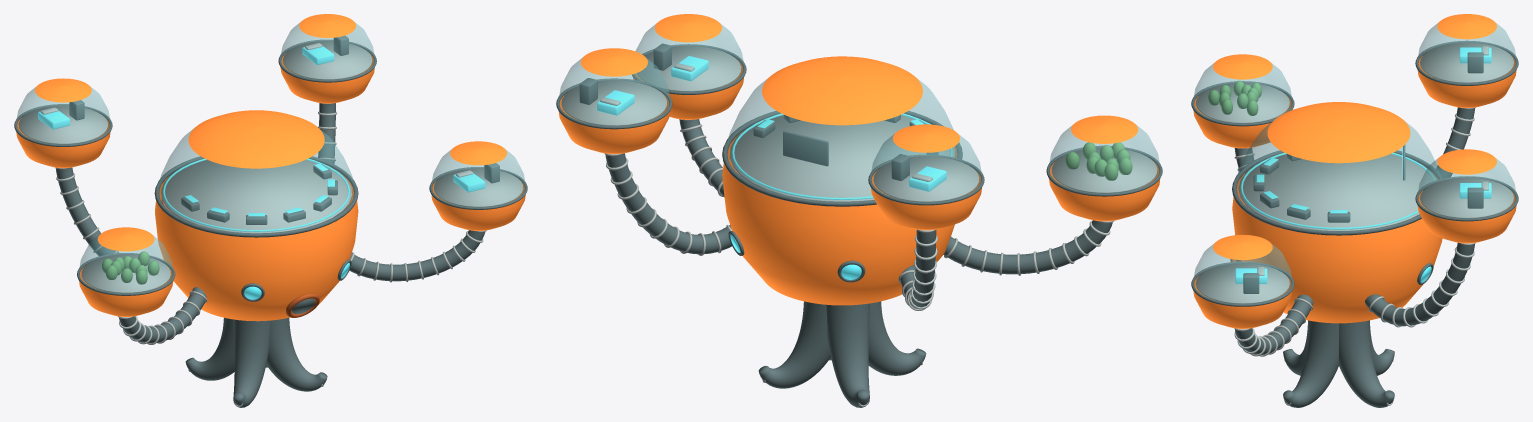
File: octopod.glb
3 renders of one model, left to right at view 1: azimuth 30°, elevation 25°; view 2: azimuth 150°, elevation 25°; view 3: azimuth 270°, elevation 25°, orthographic. The views are drawn at different scales.
Visible parts, largest first — view 1: Runtime_Octopod orange enamel, Runtime_Warm grey arm ribs, Runtime_Graphite seals and flexible arms, Runtime_Main_Dome_Glass, Runtime_Peso_Pod_Glazing, Runtime_Garden_Pod_Glazing, Runtime_Barnacles_Pod_Glazing, Runtime_Kwazii_Pod_Glazing, Runtime_Turquoise windows and screens, Runtime_Garden and room accents; view 2: Runtime_Octopod orange enamel, Runtime_Graphite seals and flexible arms, Runtime_Warm grey arm ribs, Runtime_Main_Dome_Glass, Runtime_Peso_Pod_Glazing, Runtime_Barnacles_Pod_Glazing, Runtime_Garden_Pod_Glazing, Runtime_Kwazii_Pod_Glazing, Runtime_Turquoise windows and screens, Runtime_Garden and room accents; view 3: Runtime_Octopod orange enamel, Runtime_Warm grey arm ribs, Runtime_Graphite seals and flexible arms, Runtime_Main_Dome_Glass, Runtime_Kwazii_Pod_Glazing, Runtime_Peso_Pod_Glazing, Runtime_Barnacles_Pod_Glazing, Runtime_Garden_Pod_Glazing, Runtime_Turquoise windows and screens, Runtime_Garden and room accents.
Boxes of the visible parts, left/top/right/bottom form: Runtime_Octopod orange enamel: left=16, top=14, right=525, bottom=321; Runtime_Warm grey arm ribs: left=18, top=41, right=523, bottom=406; Runtime_Graphite seals and flexible arms: left=14, top=35, right=527, bottom=407; Runtime_Main_Dome_Glass: left=157, top=129, right=355, bottom=232; Runtime_Peso_Pod_Glazing: left=280, top=22, right=374, bottom=79; Runtime_Garden_Pod_Glazing: left=79, top=235, right=173, bottom=292; Runtime_Barnacles_Pod_Glazing: left=16, top=86, right=110, bottom=143; Runtime_Kwazii_Pod_Glazing: left=431, top=149, right=525, bottom=206; Runtime_Turquoise windows and screens: left=38, top=46, right=485, bottom=299; Runtime_Garden and room accents: left=102, top=251, right=159, bottom=284; Runtime_Octopod orange enamel: left=558, top=14, right=1159, bottom=305; Runtime_Graphite seals and flexible arms: left=556, top=43, right=1162, bottom=407; Runtime_Warm grey arm ribs: left=561, top=46, right=1157, bottom=406; Runtime_Main_Dome_Glass: left=725, top=78, right=953, bottom=201; Runtime_Peso_Pod_Glazing: left=558, top=57, right=670, bottom=125; Runtime_Barnacles_Pod_Glazing: left=870, top=134, right=982, bottom=201; Runtime_Garden_Pod_Glazing: left=1048, top=125, right=1160, bottom=192; Runtime_Kwazii_Pod_Glazing: left=635, top=23, right=744, bottom=91; Runtime_Turquoise windows and screens: left=597, top=56, right=952, bottom=279; Runtime_Garden and room accents: left=1065, top=142, right=1132, bottom=180; Runtime_Octopod orange enamel: left=1193, top=14, right=1516, bottom=328; Runtime_Warm grey arm ribs: left=1196, top=42, right=1513, bottom=405; Runtime_Graphite seals and flexible arms: left=1191, top=40, right=1518, bottom=407; Runtime_Main_Dome_Glass: left=1235, top=121, right=1440, bottom=230; Runtime_Kwazii_Pod_Glazing: left=1193, top=243, right=1292, bottom=303; Runtime_Peso_Pod_Glazing: left=1417, top=158, right=1516, bottom=218; Runtime_Barnacles_Pod_Glazing: left=1417, top=22, right=1516, bottom=82; Runtime_Garden_Pod_Glazing: left=1193, top=63, right=1292, bottom=123; Runtime_Turquoise windows and screens: left=1235, top=47, right=1491, bottom=283; Runtime_Garden and room accents: left=1208, top=80, right=1261, bottom=115.
Bounding box in the file's own units: 49.68 × 31.1 × 30.68.
